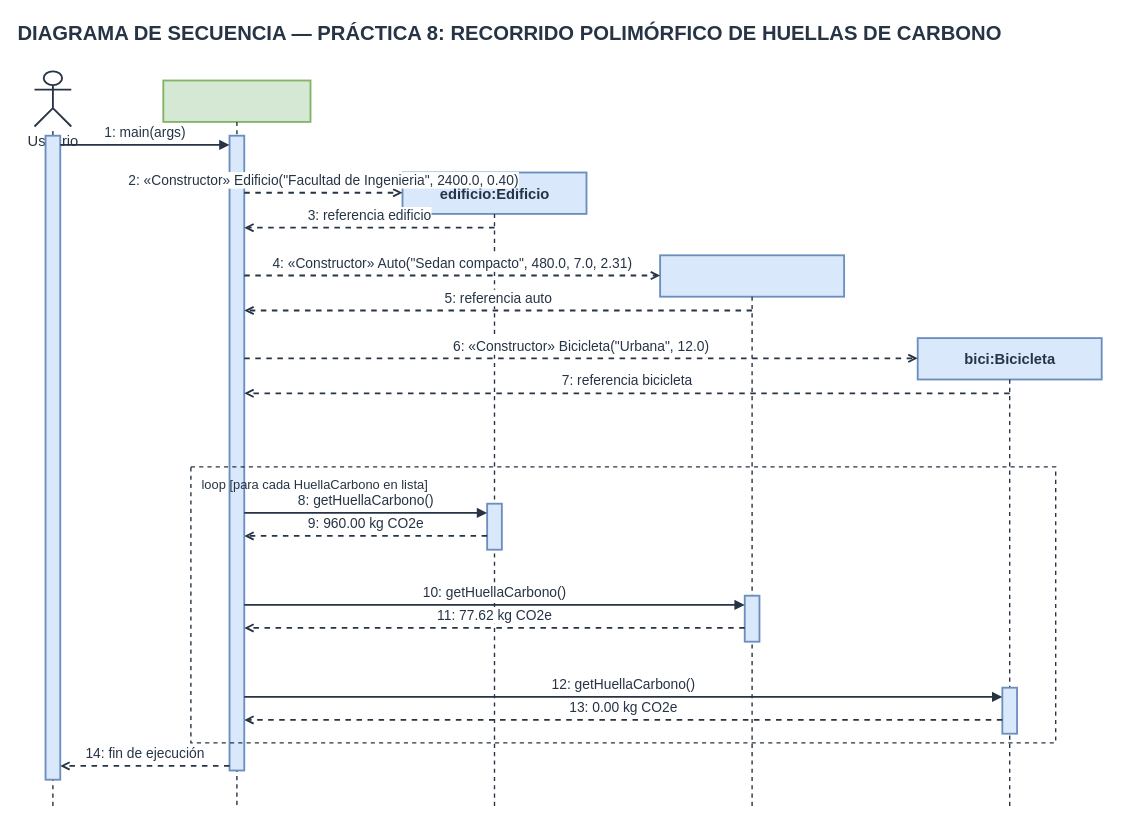
Image size: 1135x824. Some labels were removed from this diagram. The centre of each missing label's shape, as x and y in pixels:
"auto:Auto" belongs at (x=752, y=275).
"Main" belongs at (x=236, y=100).
